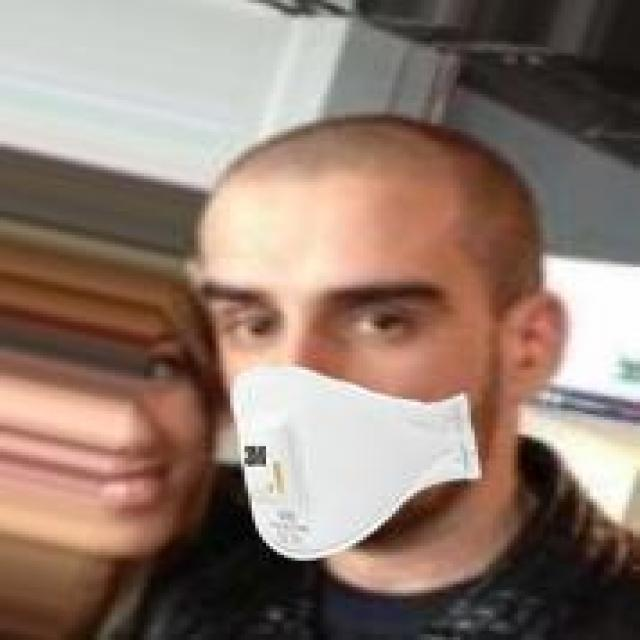mask: (151, 129, 568, 584)
